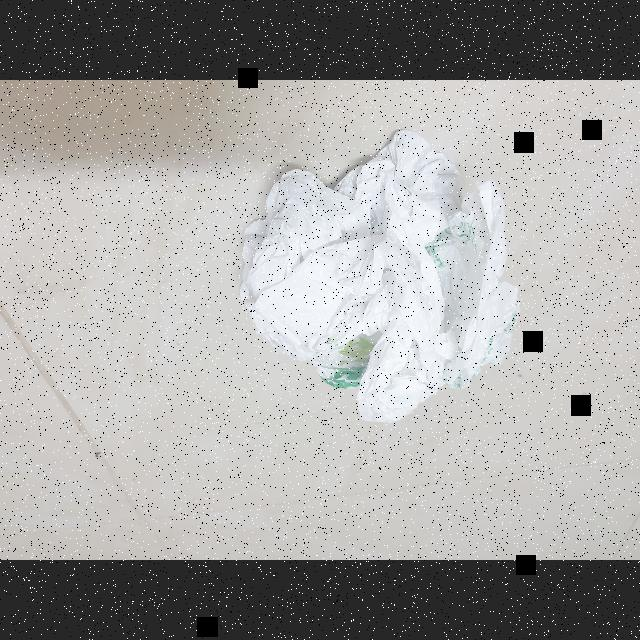plastic_bag: (228, 124, 534, 430)
